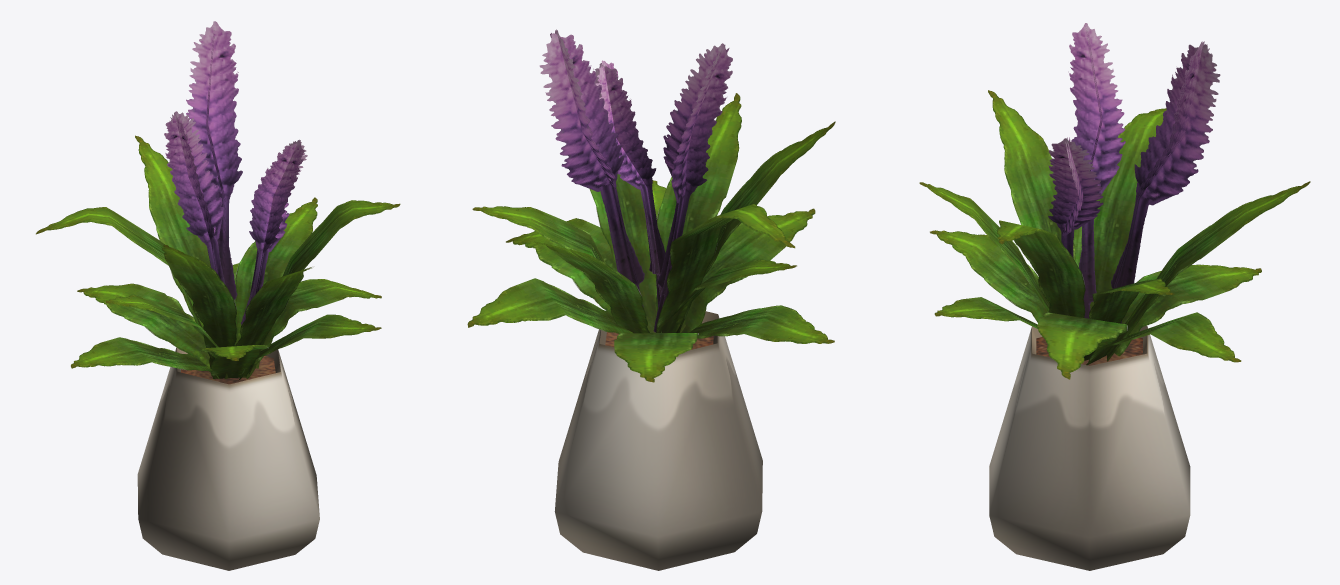
Rendered from SiWangPenQuan_01_zhiwu_01.FBX.
3 views of the same model, side by side, from view 1: azimuth 30°, elevation 25°; view 2: azimuth 150°, elevation 25°; view 3: azimuth 270°, elevation 25° (orthographic). The views are drawn at different scales.
Parts seen in each view (by area): view 1: SiWangPenQuan_01_zhiwu_01; view 2: SiWangPenQuan_01_zhiwu_01; view 3: SiWangPenQuan_01_zhiwu_01.
Part boxes in pixels (x1=…): SiWangPenQuan_01_zhiwu_01: x1=36, y1=21, x2=400, y2=570; SiWangPenQuan_01_zhiwu_01: x1=467, y1=29, x2=835, y2=570; SiWangPenQuan_01_zhiwu_01: x1=919, y1=23, x2=1310, y2=570.
Size of the model in its own units: 149 by 198 by 146.
